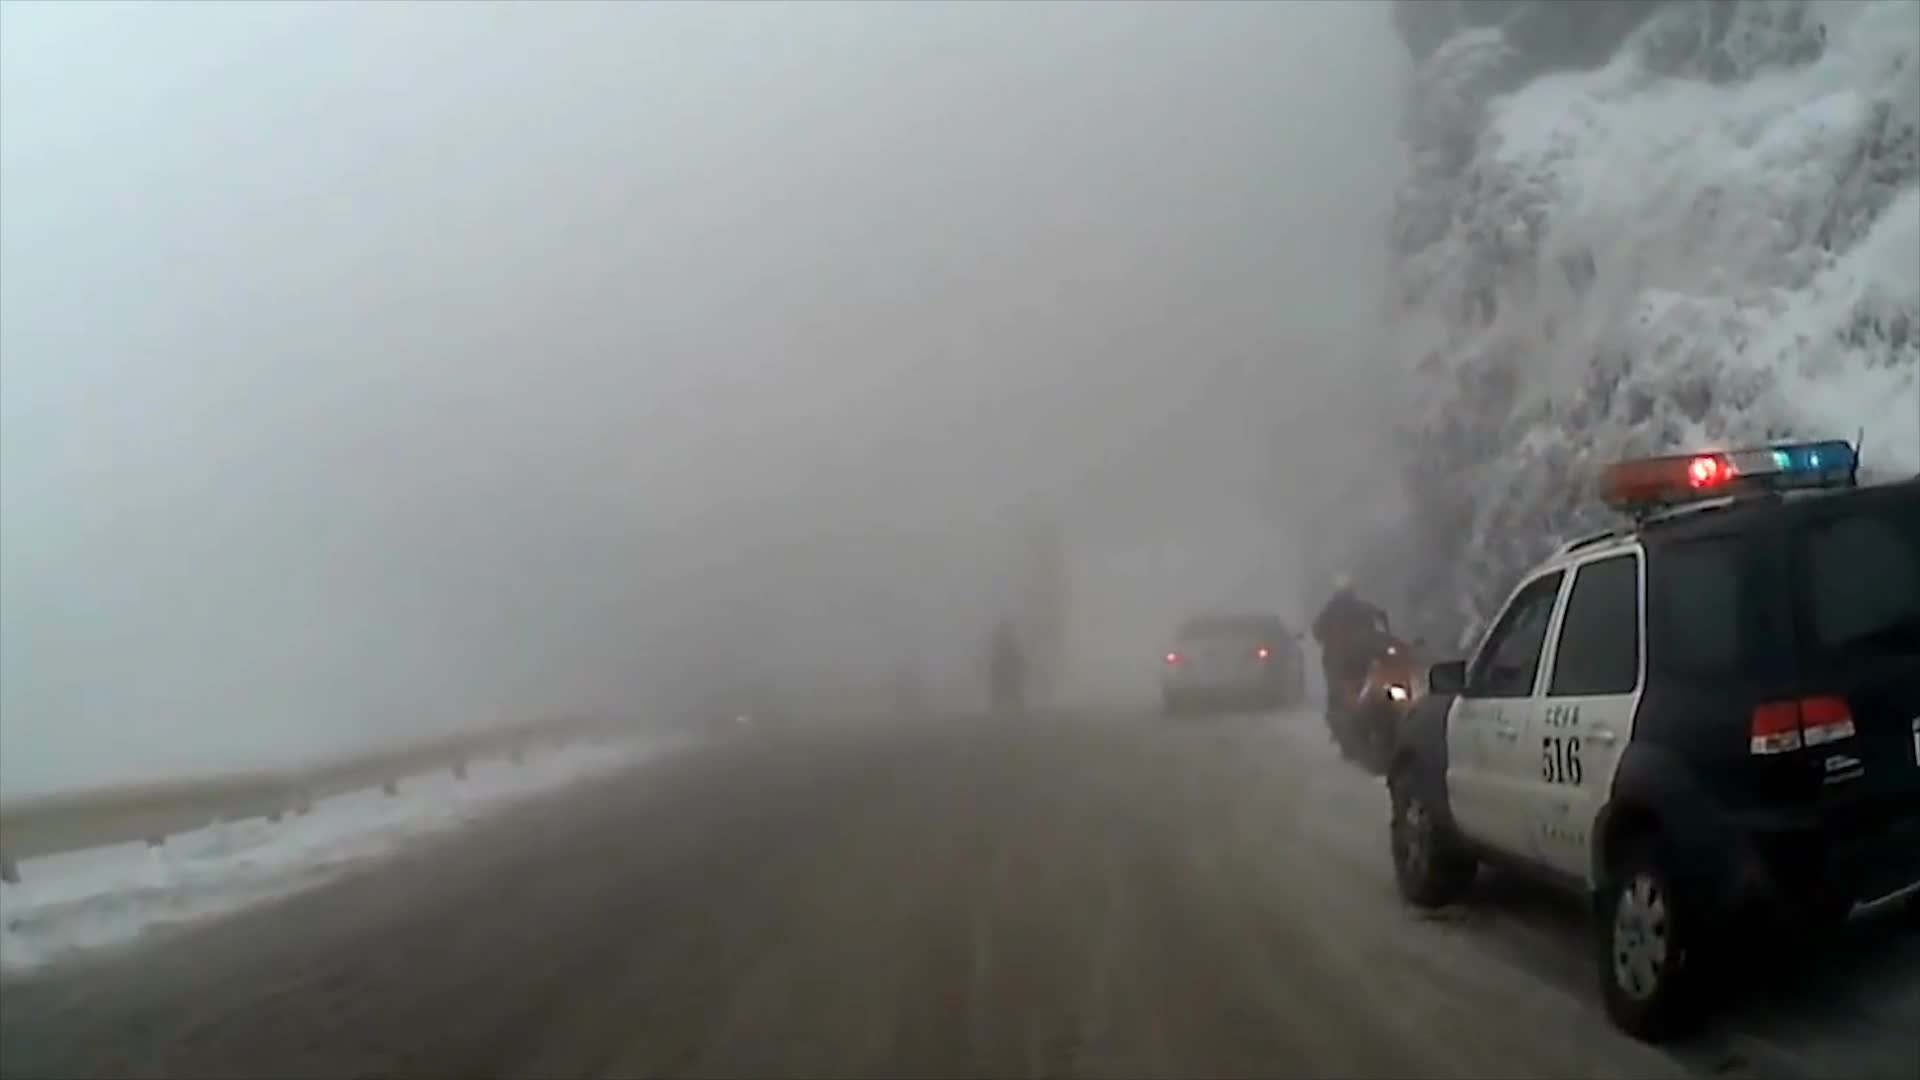pedestrian: (1315, 583, 1391, 751)
vehicle: (1383, 435, 1920, 1042), (1158, 610, 1306, 719)
